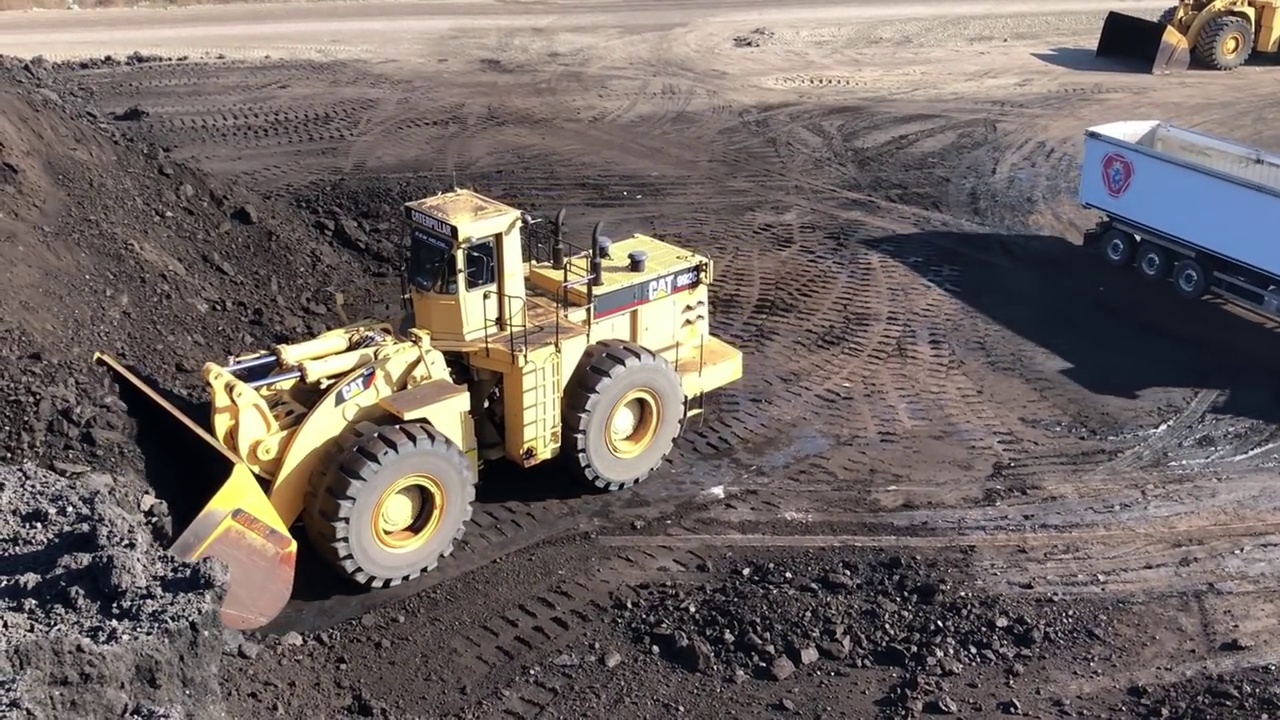truck: (1082, 122, 1280, 310)
wheel loader: (77, 189, 741, 633), (1095, 4, 1280, 80)
